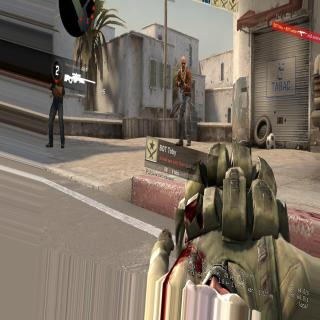T-Body: (44, 59, 66, 150), (175, 52, 193, 146)
T-Head: (180, 56, 185, 70), (53, 61, 58, 72)
